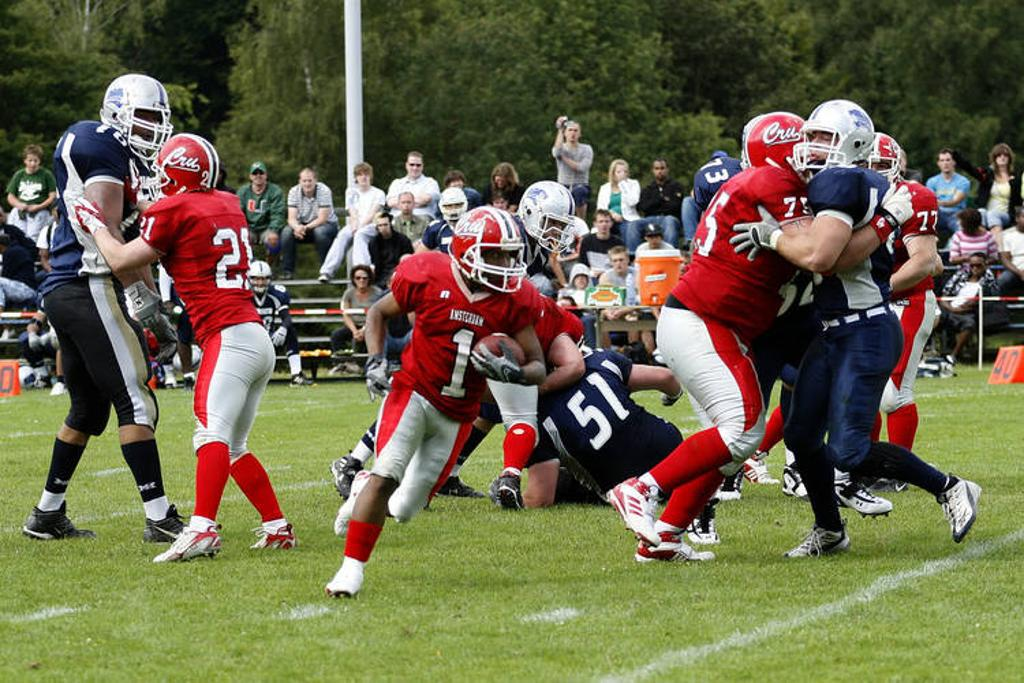face: (478, 240, 513, 281), (128, 104, 161, 147), (809, 125, 843, 165), (538, 210, 565, 246), (862, 157, 892, 187), (408, 158, 424, 178), (445, 203, 462, 220), (355, 271, 371, 288), (653, 162, 668, 179), (301, 175, 315, 193), (597, 216, 611, 234), (378, 218, 391, 237), (612, 256, 627, 272), (400, 195, 414, 212), (939, 155, 953, 172), (567, 124, 580, 142), (253, 276, 268, 291), (1, 229, 12, 248), (614, 165, 627, 181), (971, 260, 984, 275), (254, 170, 266, 185), (358, 172, 370, 187), (556, 301, 572, 312), (27, 156, 39, 170), (649, 235, 660, 250), (576, 276, 588, 289), (450, 179, 464, 190), (494, 198, 506, 210), (998, 153, 1009, 166), (496, 174, 506, 188), (1019, 208, 1024, 228)
